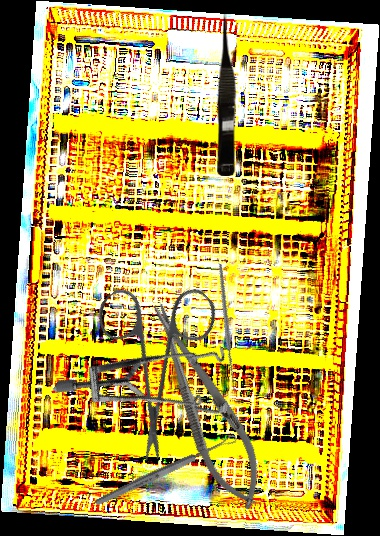Hook Surgical: (173, 262, 287, 395)
Iris Scissors: (47, 247, 265, 465)
Micro Scissor: (217, 11, 238, 176)
Needle Holder: (133, 292, 279, 519)
Speculum: (52, 283, 254, 473)
Surgical Spoon: (93, 433, 239, 508)
